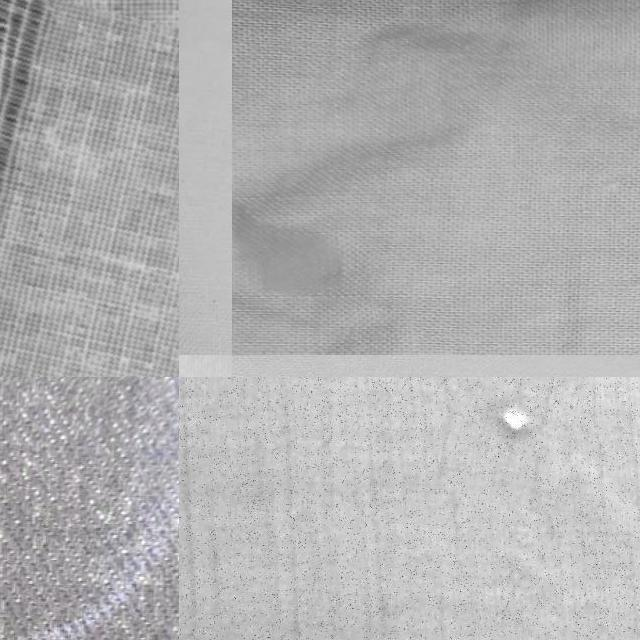other: (441, 377, 585, 510)
